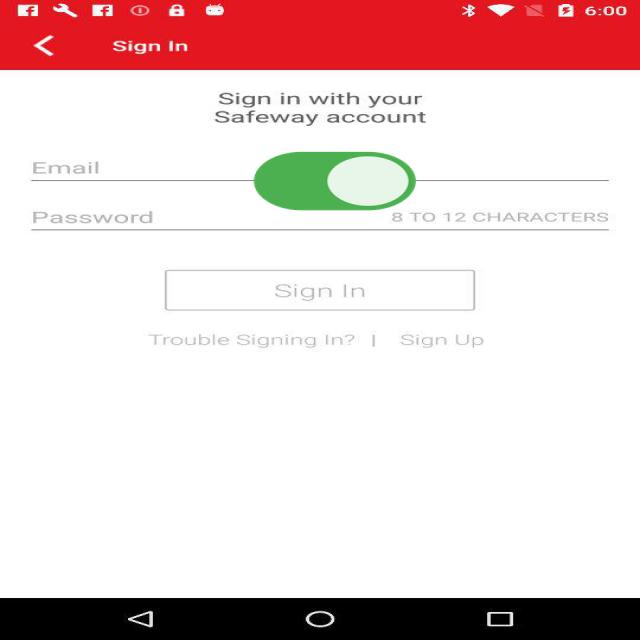social proof: (247, 130, 423, 238)
